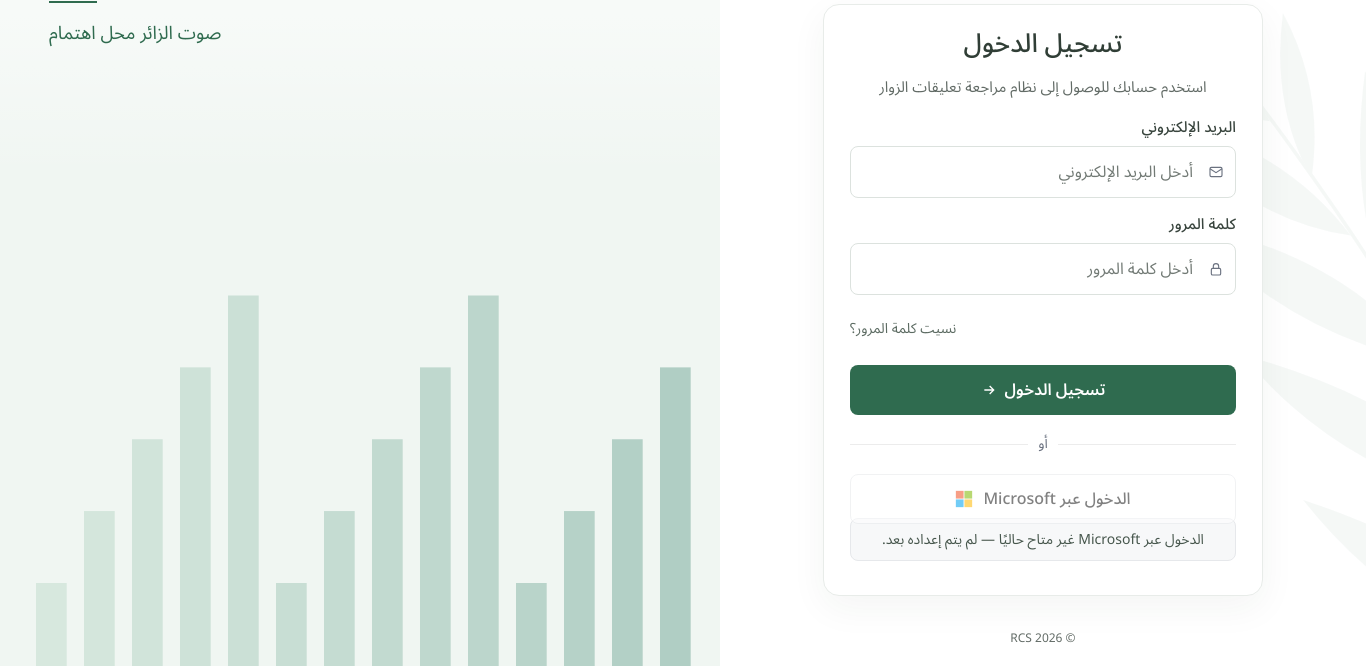
Test: login page entry point › keeps the truthful contact-admin message when email reset is not configured (fail closed)
Click the button "نسيت كلمة المرور؟" at (903, 329), box [850, 307, 956, 351]
(page scrolled)
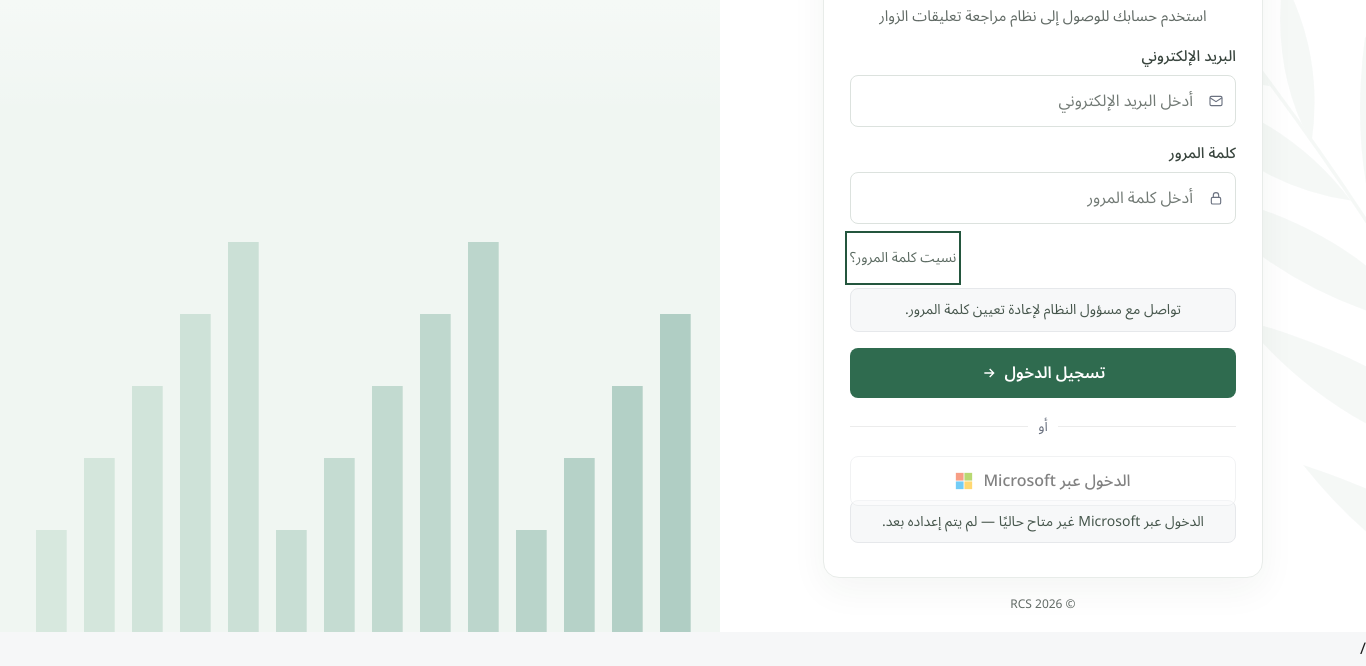
Expected: the text with test id "loc" reads "/", [1360, 632, 1365, 665]
Expected: the text "تواصل مع مسؤول النظام لإعادة تعيين كلمة المرور." is shown, [850, 288, 1236, 332]
